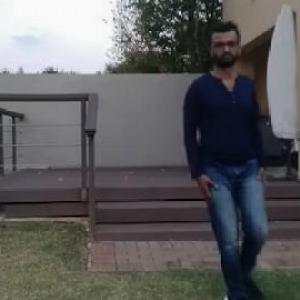follow: (172, 14, 274, 299)
